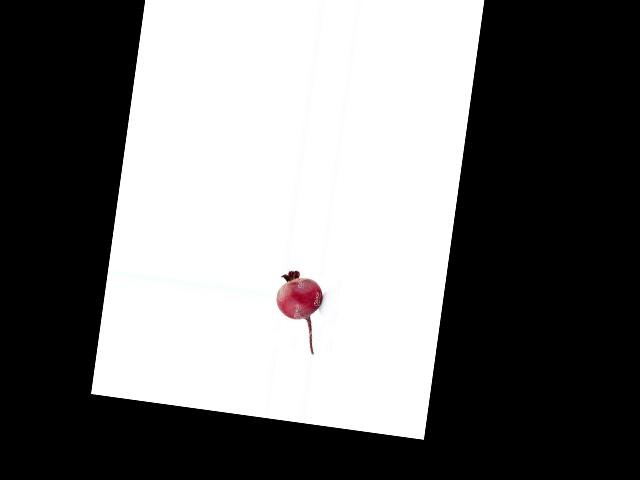beet: (270, 268, 325, 354)
